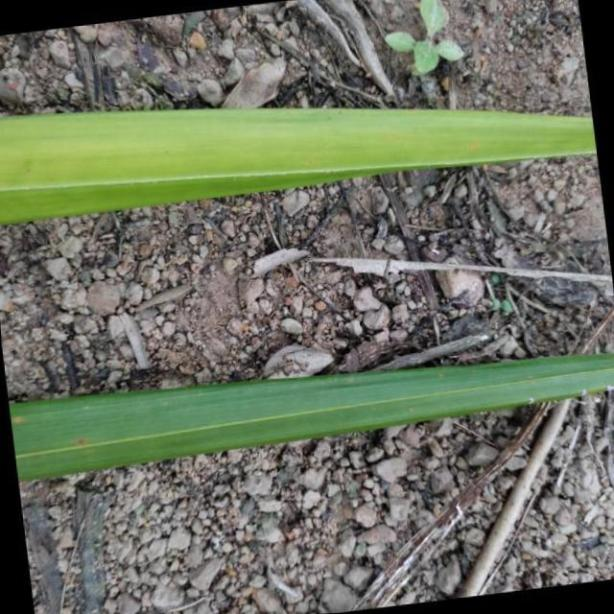nitrogen: (0, 358, 614, 483), (0, 107, 614, 226)
